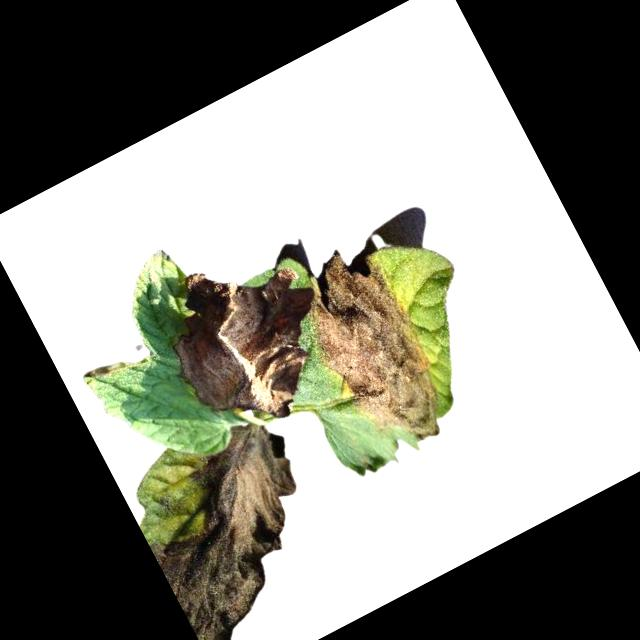Late_blight: (121, 414, 362, 640), (145, 234, 353, 451), (277, 234, 465, 469)
